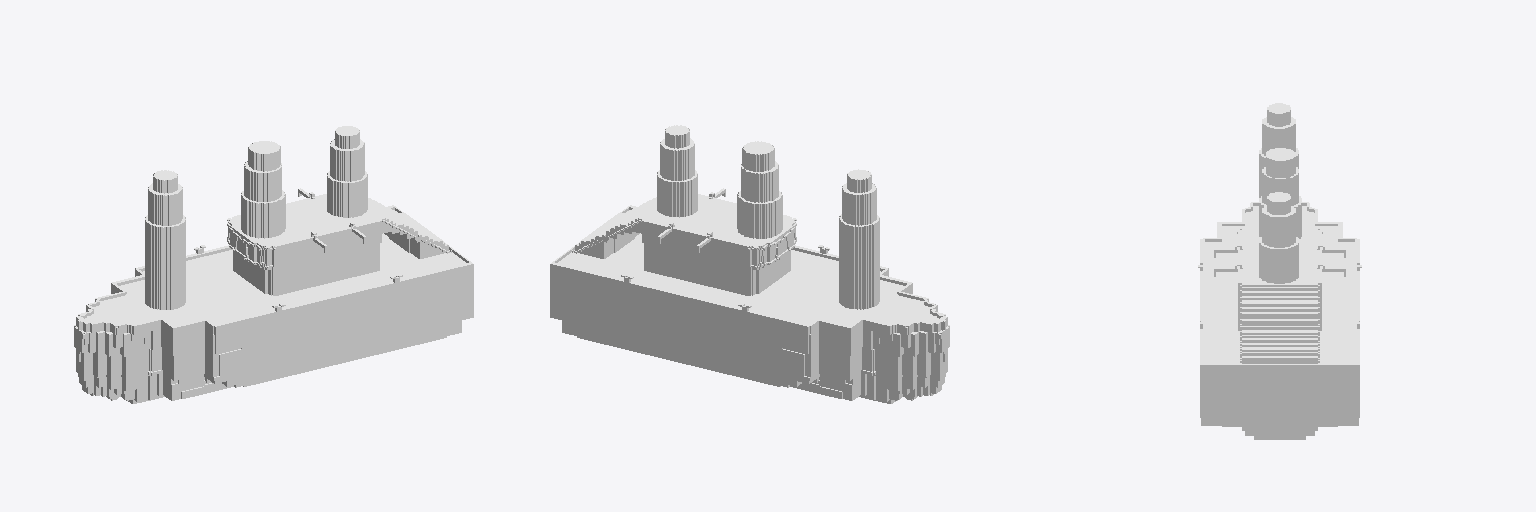
The model's file is Floor_3_boat.obj.
3 renders of one model, left to right at view 1: azimuth 30°, elevation 25°; view 2: azimuth 150°, elevation 25°; view 3: azimuth 270°, elevation 25°, orthographic.
Visible parts, largest first — view 1: object 1; view 2: object 1; view 3: object 1.
Boxes of the visible parts, x1=… form: object 1: x1=74, y1=126, x2=473, y2=403; object 1: x1=550, y1=125, x2=949, y2=403; object 1: x1=1198, y1=103, x2=1361, y2=439.
Size of the model in its own units: 25.6 by 14.6 by 10.2.